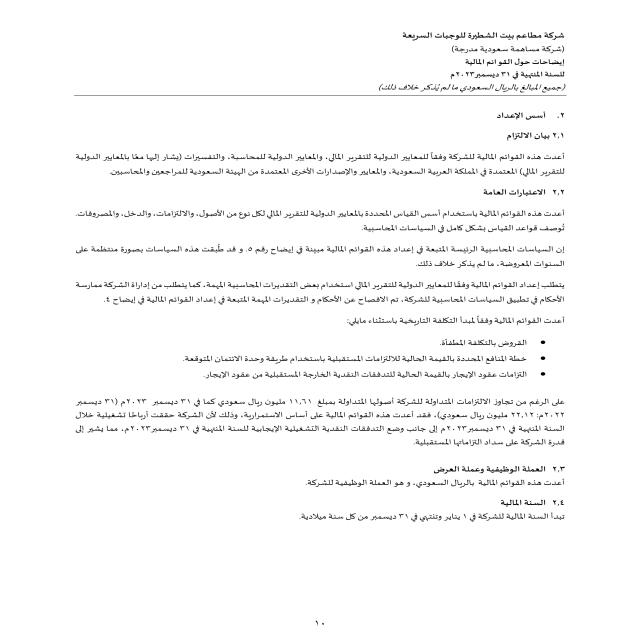notes: (461, 60, 581, 70)
text: (34, 101, 596, 540)
